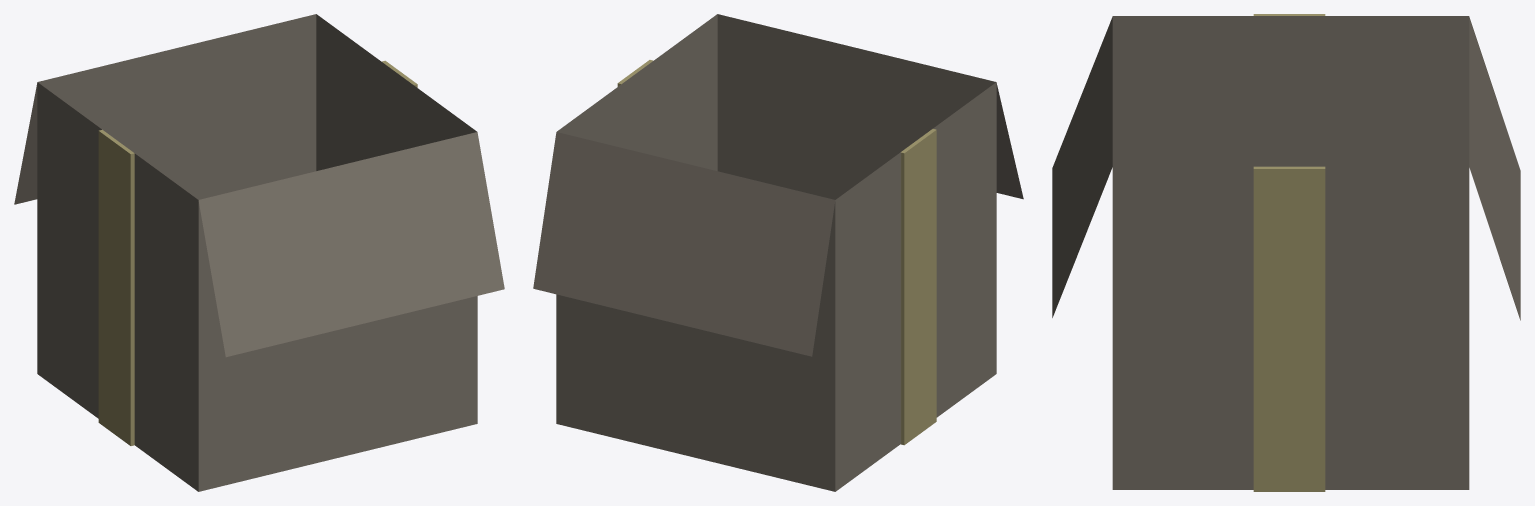
File: squarebox_open.fbx
3 renders of one model, left to right at view 1: azimuth 30°, elevation 25°; view 2: azimuth 150°, elevation 25°; view 3: azimuth 270°, elevation 25°, orthographic. The views are drawn at different scales.
Visible parts, largest first — view 1: polySurface31, polySurface32, polySurface18, polySurface33; view 2: polySurface31, polySurface33, polySurface18, polySurface32; view 3: polySurface31, polySurface18, polySurface32, polySurface33.
Boxes of the visible parts, x1=… form: polySurface31: x1=37, y1=14, x2=477, y2=491; polySurface32: x1=198, y1=132, x2=504, y2=357; polySurface18: x1=98, y1=60, x2=417, y2=445; polySurface33: x1=14, y1=83, x2=37, y2=204; polySurface31: x1=556, y1=14, x2=996, y2=491; polySurface33: x1=533, y1=132, x2=835, y2=356; polySurface18: x1=617, y1=60, x2=936, y2=445; polySurface32: x1=996, y1=83, x2=1023, y2=199; polySurface31: x1=1112, y1=16, x2=1469, y2=489; polySurface18: x1=1253, y1=14, x2=1325, y2=491; polySurface32: x1=1052, y1=17, x2=1112, y2=317; polySurface33: x1=1469, y1=17, x2=1520, y2=320.
Size of the model in its own units: 3.16 by 3.08 by 4.04.
Materials: 2 (2 with a texture image).
